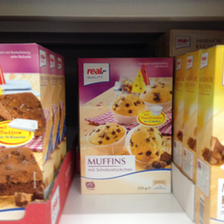cake: (76, 56, 176, 199), (1, 42, 51, 211)
